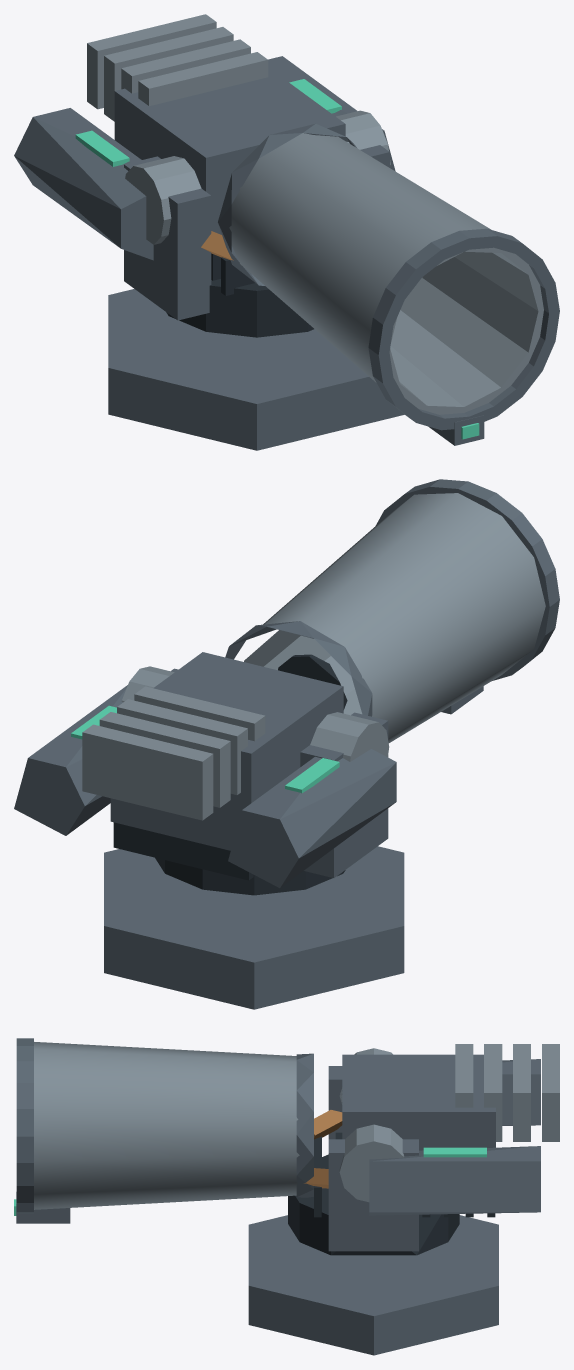
File: plasma_t3_d0.meshopt.glb
3 views of the same model, one above another, from view 1: azimuth 30°, elevation 25°; view 2: azimuth 150°, elevation 25°; view 3: azimuth 270°, elevation 25° (orthographic). The views are drawn at different scales.
Visible parts, largest first — view 1: ROOT_ARMOR_GEOMETRY; view 2: ROOT_ARMOR_GEOMETRY; view 3: ROOT_ARMOR_GEOMETRY.
Part boxes in pixels (bbox=[...]): ROOT_ARMOR_GEOMETRY: bbox=[14, 14, 559, 450]; ROOT_ARMOR_GEOMETRY: bbox=[14, 479, 559, 1009]; ROOT_ARMOR_GEOMETRY: bbox=[14, 1038, 559, 1355].
Size of the model in its own units: 1.6 by 1.52 by 3.02.
